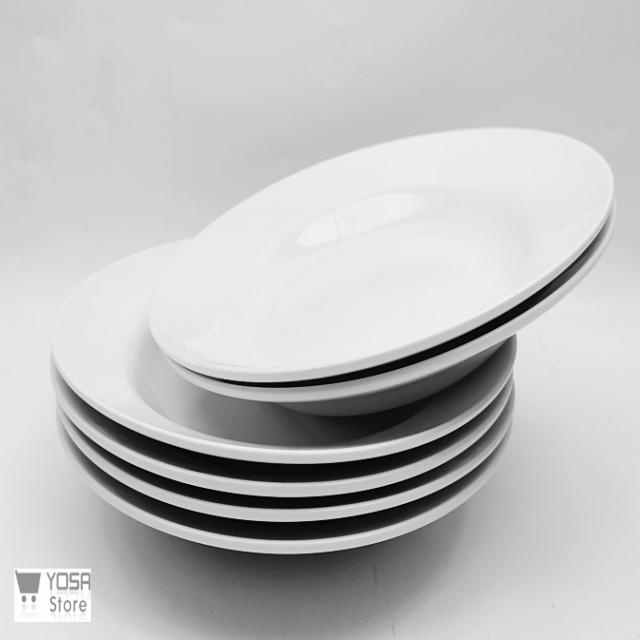dish: (27, 108, 624, 570)
